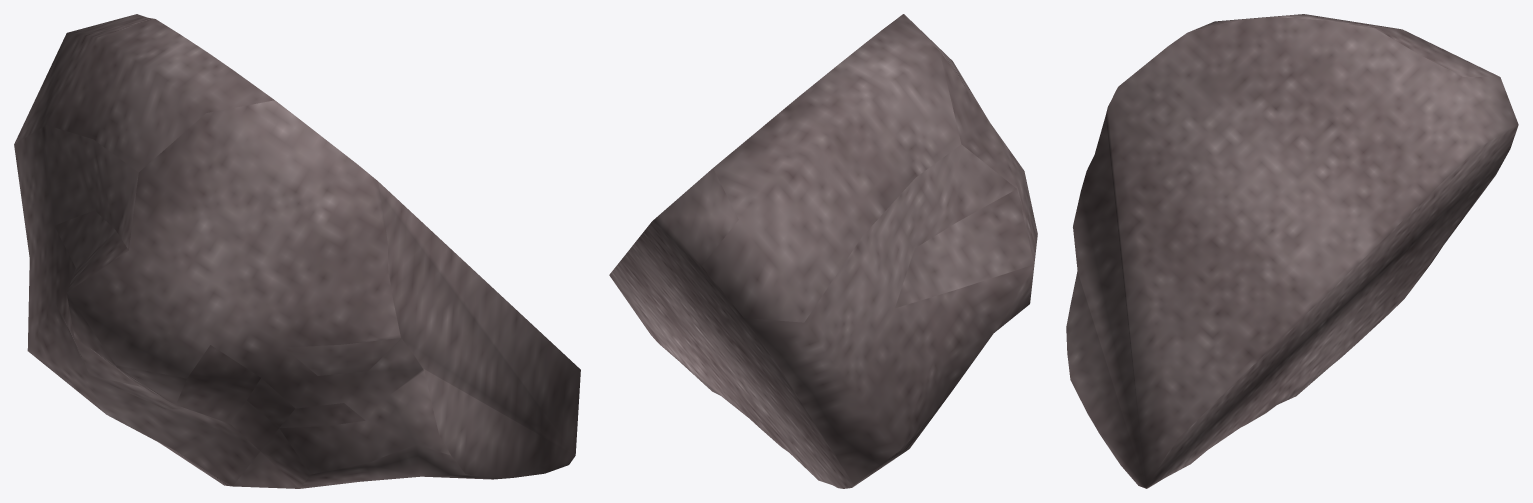
The model's file is boulder_0.glb.
The picture shows the model from 3 angles, left to right: view 1: azimuth 30°, elevation 25°; view 2: azimuth 150°, elevation 25°; view 3: azimuth 270°, elevation 25°; orthographic projection. The views are drawn at different scales.
Parts seen in each view (by area): view 1: boulder_0; view 2: boulder_0; view 3: boulder_0.
Part boxes in pixels (box(x1,y1,x2,y2)): boulder_0: box(14, 14, 580, 488); boulder_0: box(609, 14, 1037, 488); boulder_0: box(1066, 14, 1518, 488).
Size of the model in its own units: 1.89 by 1.67 by 1.88.
Materials: 1 (1 with a texture image).
